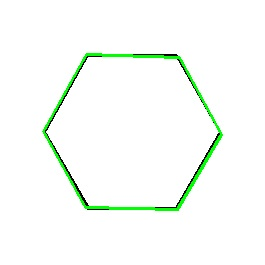line_segment: (43, 53, 222, 210)
